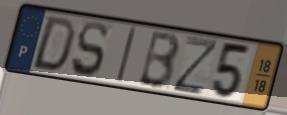5: (209, 40, 257, 101)
B: (136, 29, 183, 91)
D: (29, 14, 78, 73)
I: (113, 25, 139, 85)
S: (69, 19, 109, 80)
Z: (170, 34, 222, 97)
